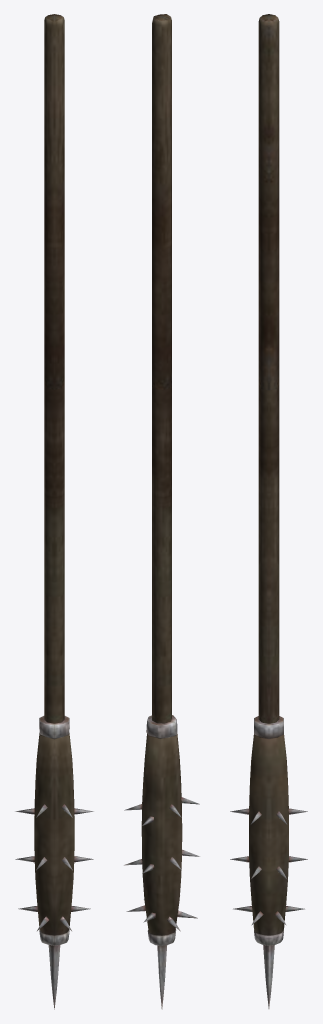
The model's file is weapon-wp_a_1017.glb.
3 renders of one model, left to right at view 1: azimuth 90°, elevation 25°; view 2: azimuth 150°, elevation 25°; view 3: azimuth 270°, elevation 25°, orthographic.
Parts seen in each view (by area): view 1: wp_a_1017_mesh; view 2: wp_a_1017_mesh; view 3: wp_a_1017_mesh.
Part boxes in pixels (x1=…): wp_a_1017_mesh: x1=15, y1=14, x2=93, y2=1009; wp_a_1017_mesh: x1=124, y1=14, x2=199, y2=1009; wp_a_1017_mesh: x1=230, y1=14, x2=307, y2=1008.
Bounding box in the file's own units: 0.1286 × 2.07 × 0.1511.
Materials: 1 (1 with a texture image).
